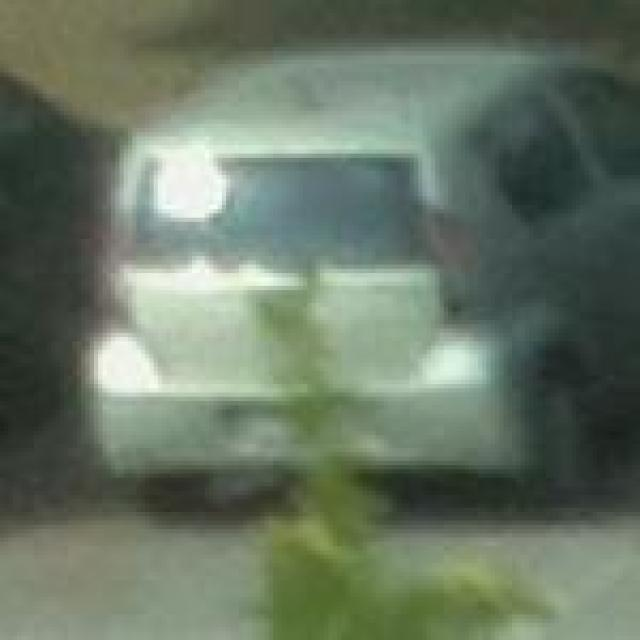cars-sUYr: (61, 27, 638, 537)
